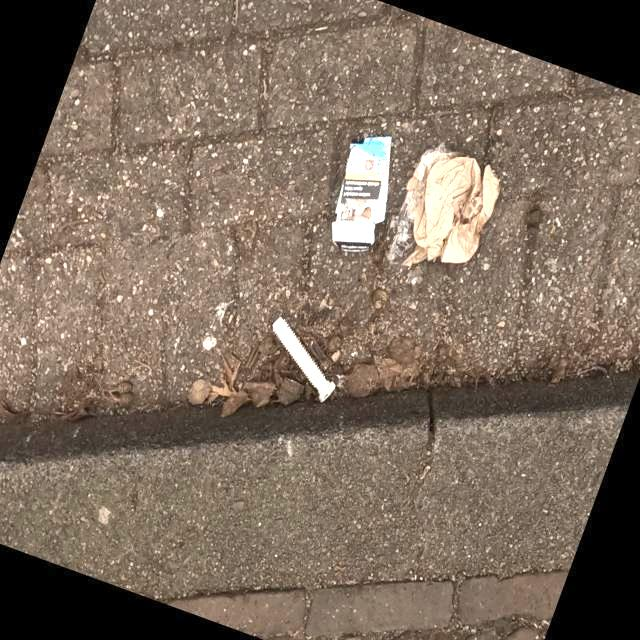Paper: (384, 138, 502, 272), (330, 134, 392, 253)
